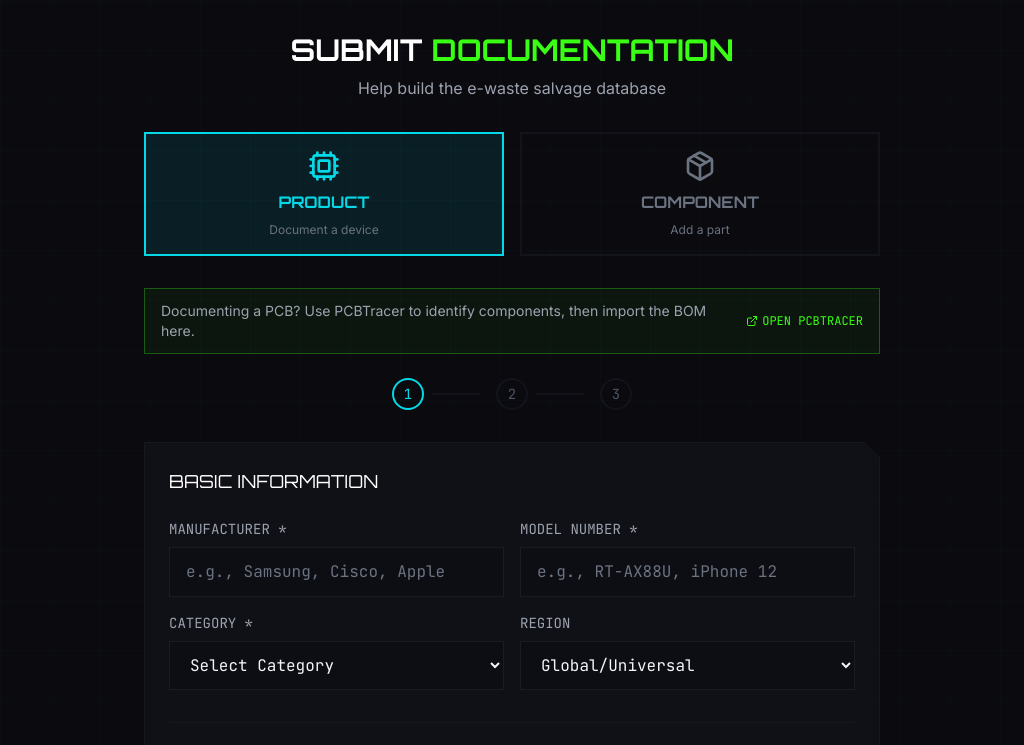
Scenario: Submit Page › wizard step progression › allows going back to previous step
// Fill required fields and advance
Type "Test Manufacturer" into the field with placeholder "e.g., Samsung, Cisco, Apple". click: (336,572)
box: 169,547 -> 504,597
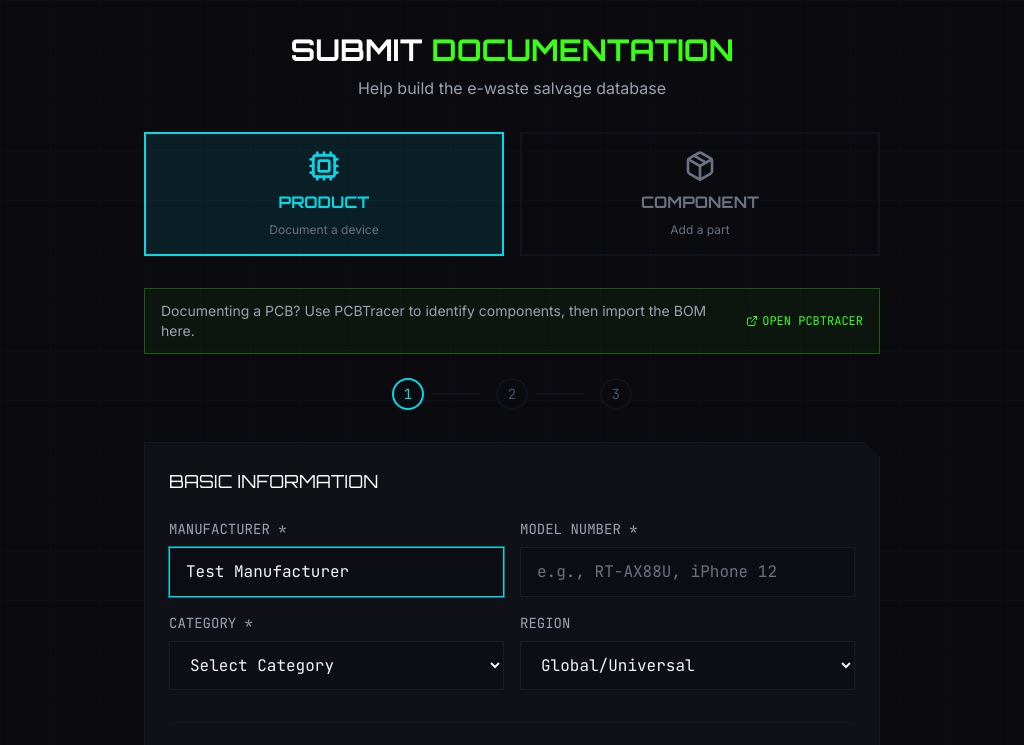
Type "TEST-001" into the field with placeholder "e.g., RT-AX88U, iPhone 12". click: (688,572)
box: 520,547 -> 855,597
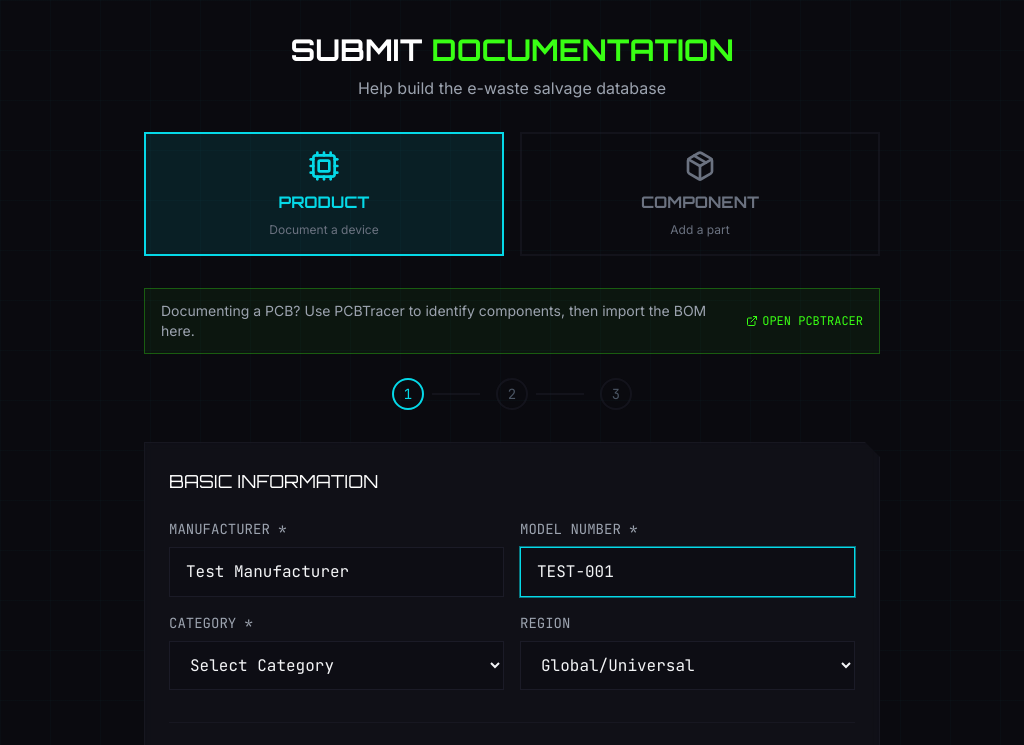
Select "Router" in the dropdown below "CATEGORY". click: (336,666)
box: 169,641 -> 504,690
(page scrolled)
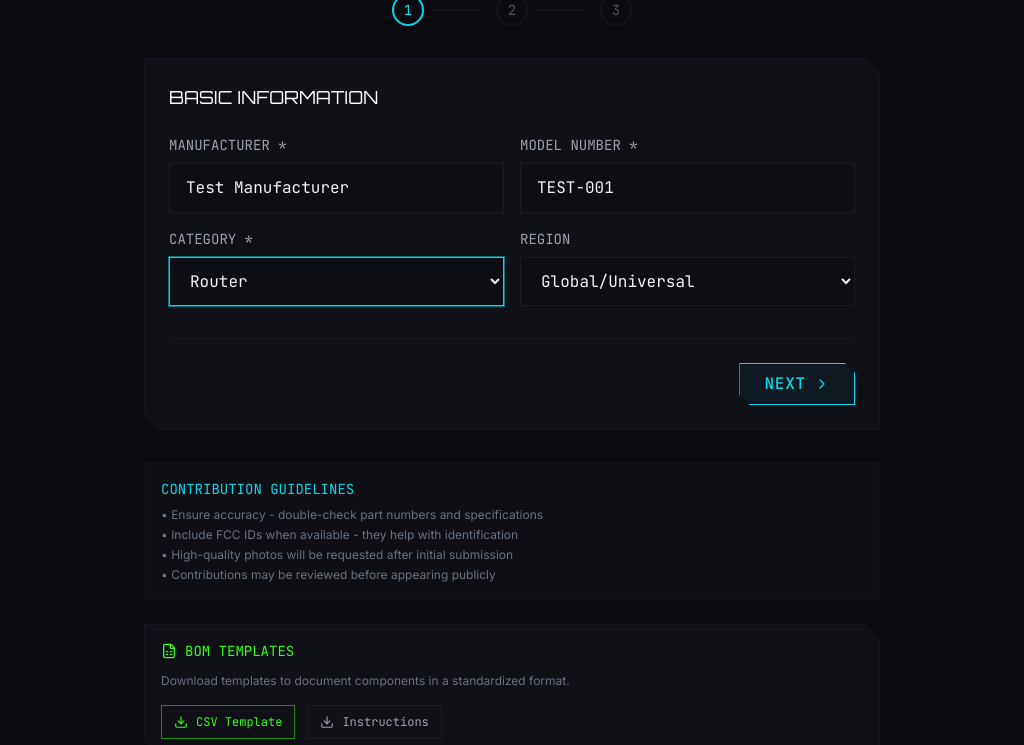
Click the button "NEXT". click: (797,384)
box: 739,363 -> 855,405
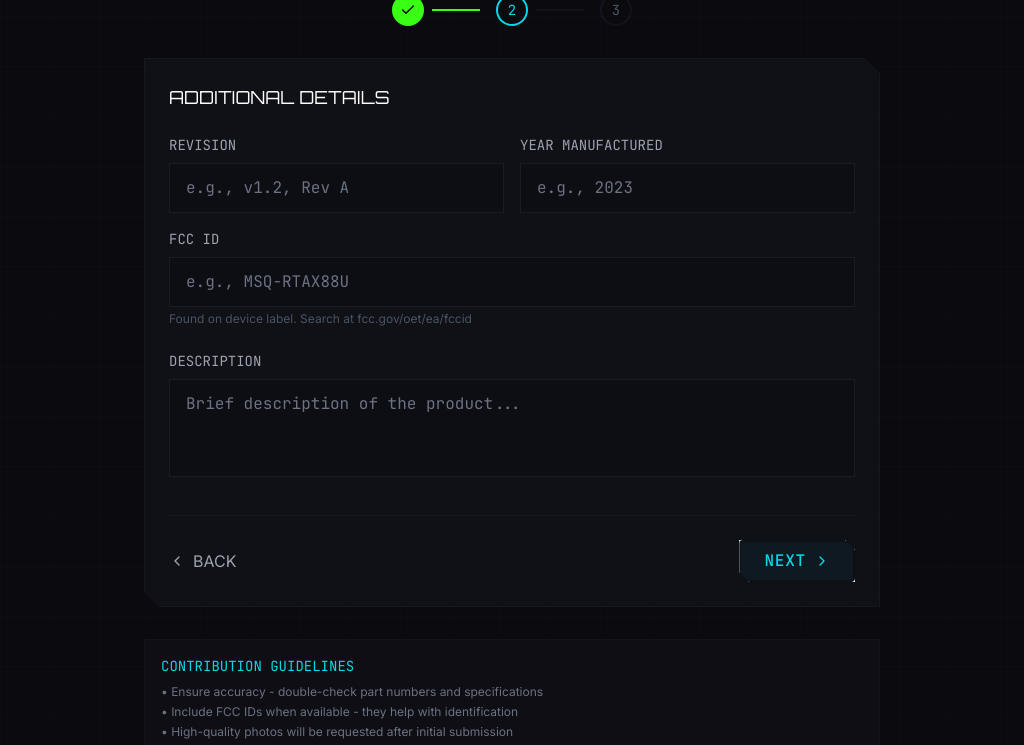
//  Go back
Click the button "BACK". click: (203,561)
box: 169,540 -> 236,582
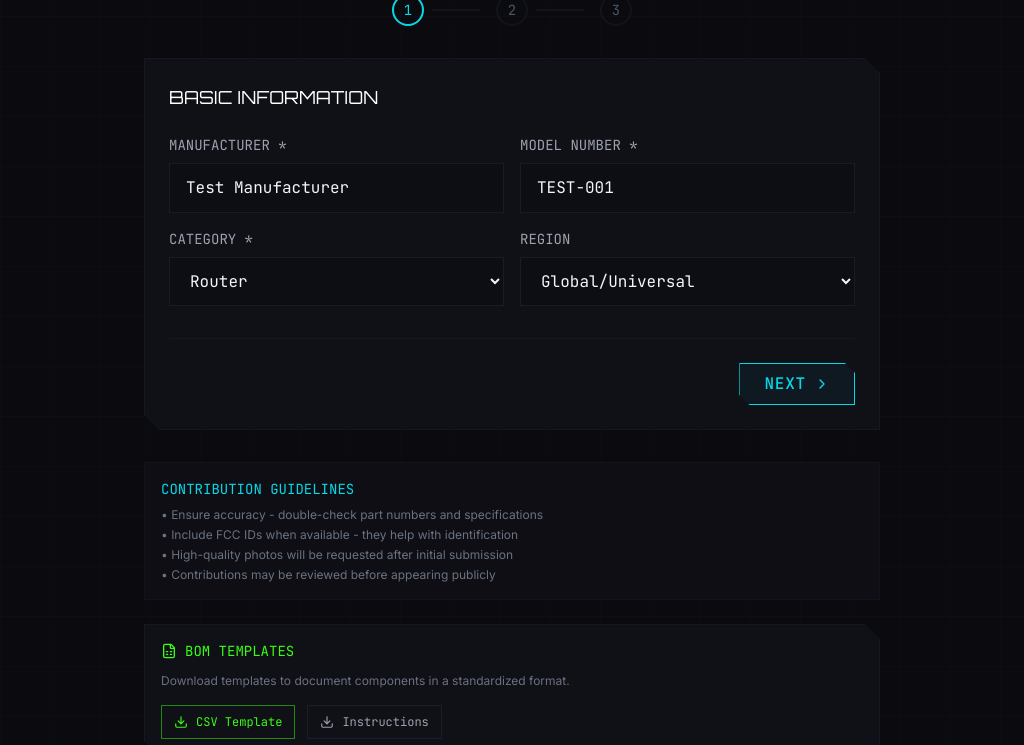
expect the heading "BASIC INFORMATION" is shown: met, box 169,86 -> 378,108
